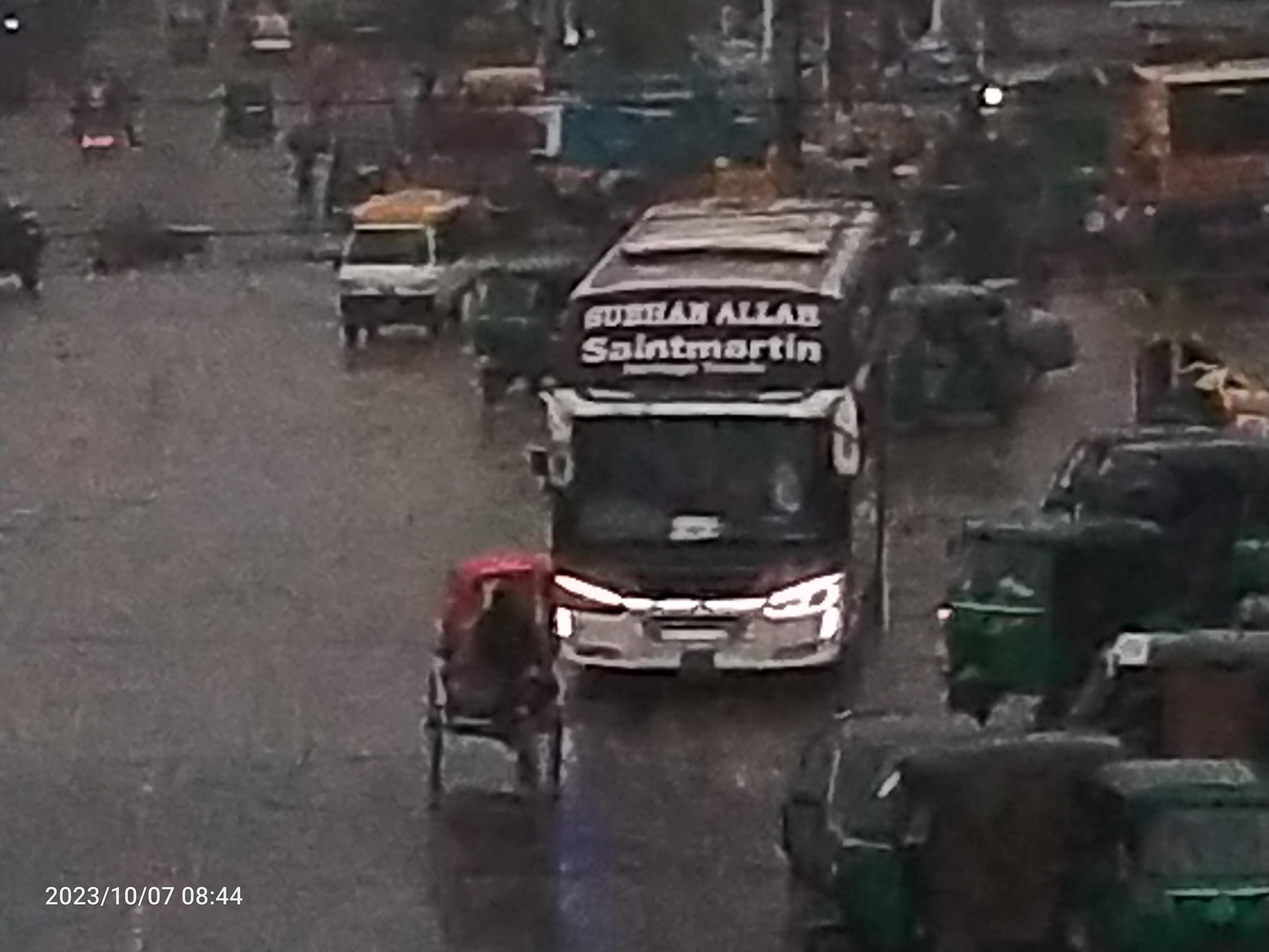Bus: (512, 149, 928, 731), (1079, 35, 1269, 234)
Car: (381, 517, 606, 852), (287, 157, 523, 356)
